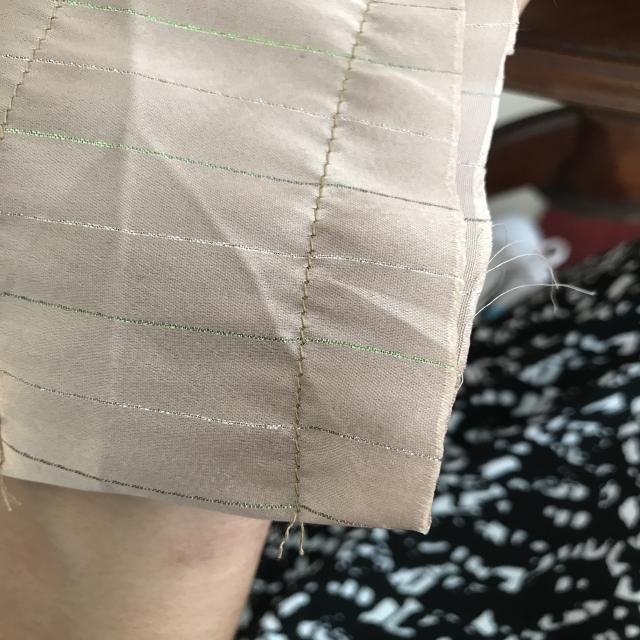good: (285, 352, 322, 413), (282, 444, 317, 494), (311, 126, 338, 176)
